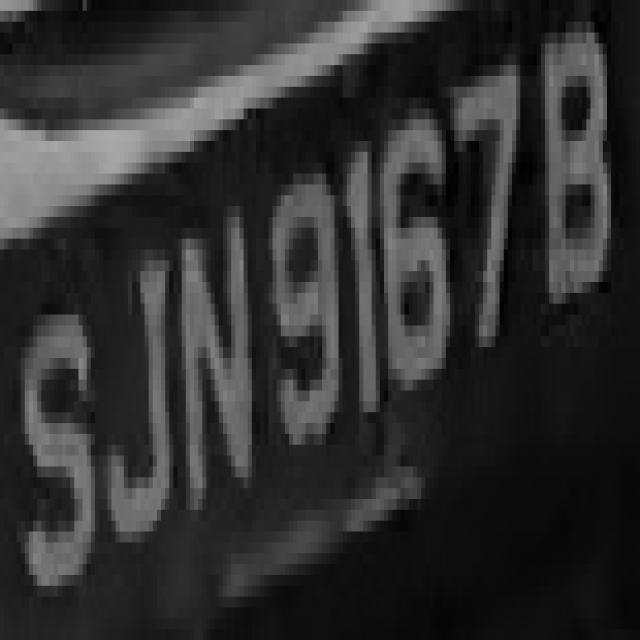1: (334, 87, 384, 488)
6: (372, 65, 454, 391)
7: (438, 43, 532, 358)
9: (264, 141, 343, 477)
B: (541, 11, 611, 336)
J: (95, 206, 182, 564)
N: (169, 163, 256, 532)
S: (8, 271, 95, 618)
